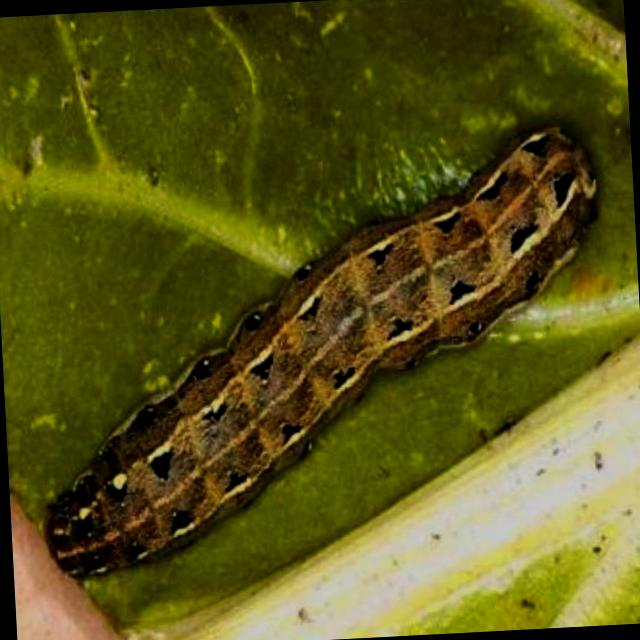Tobacco cutworm: (0, 35, 636, 614)
